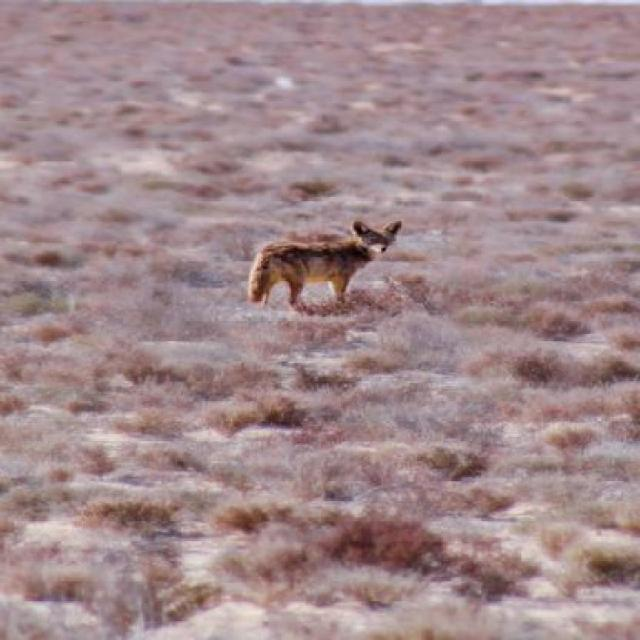Coyote: (247, 218, 404, 312)
